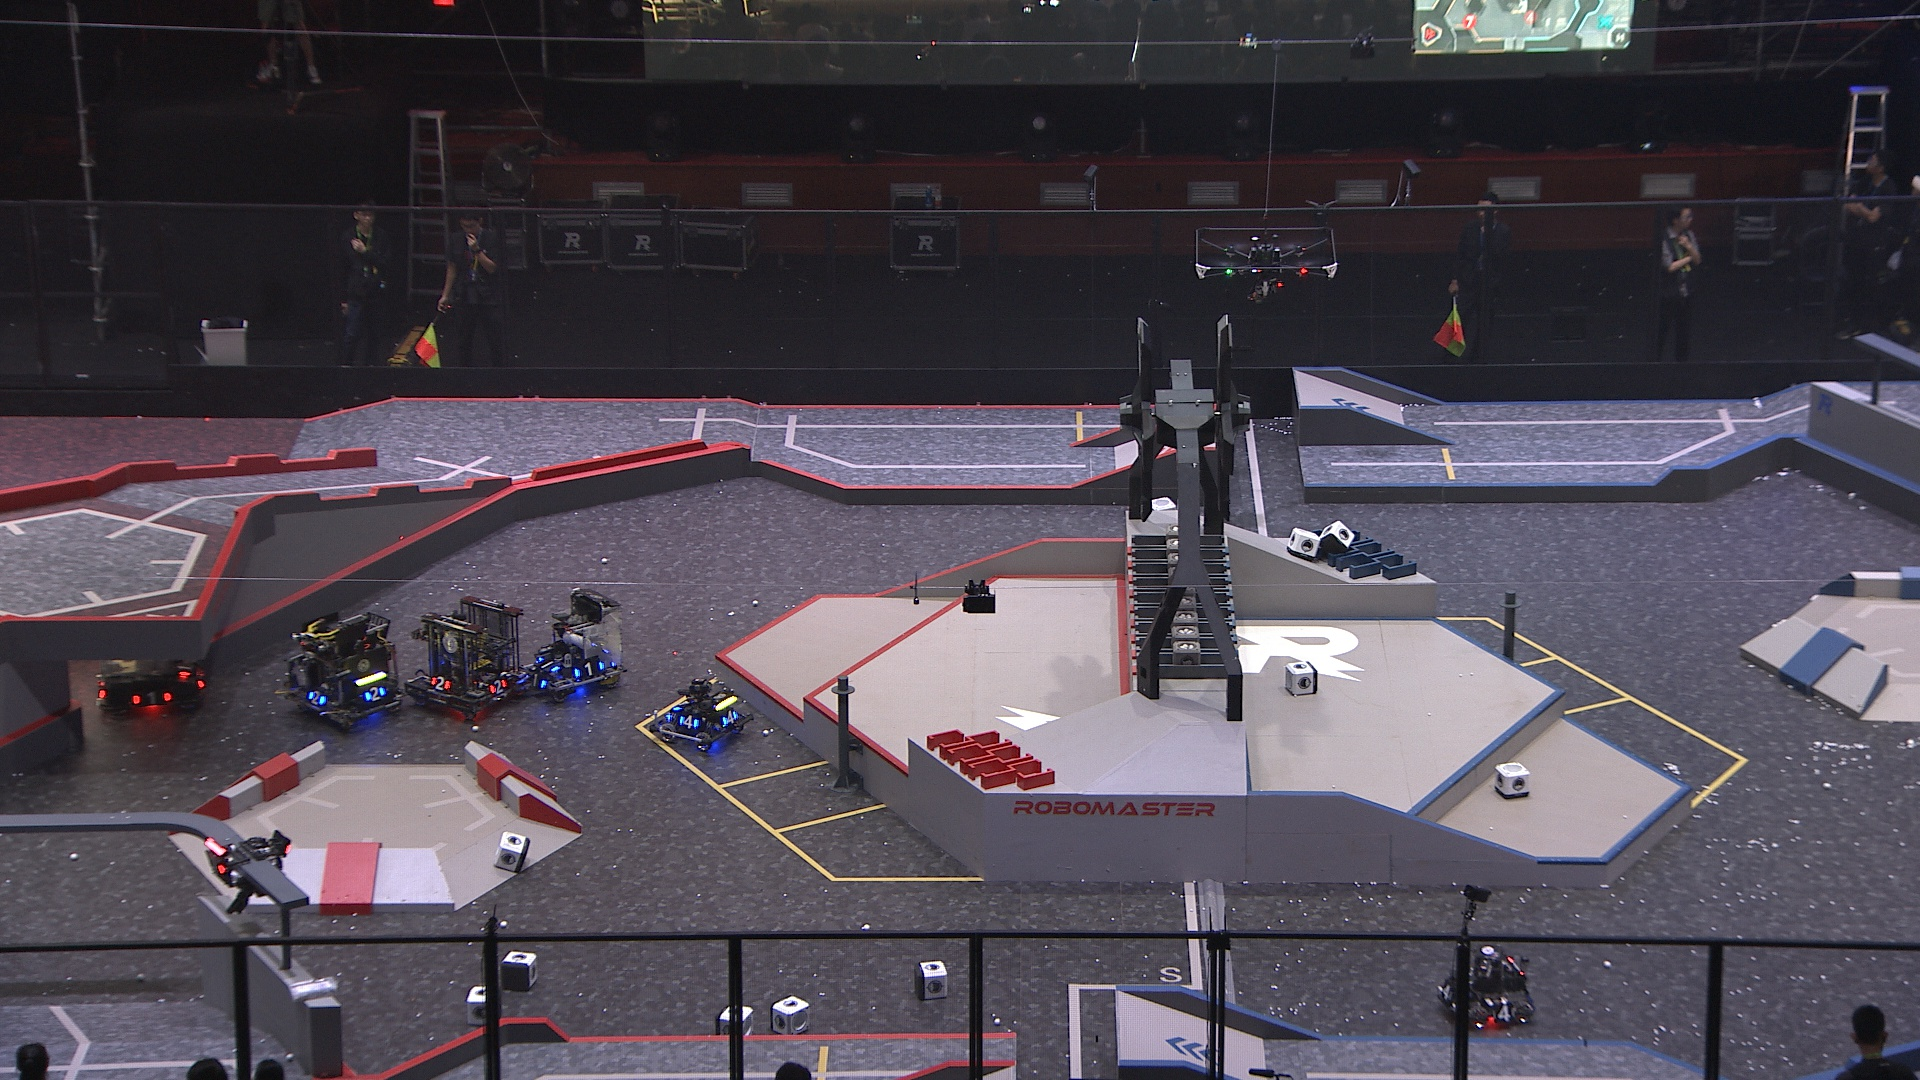armor: (131, 684, 173, 708), (568, 657, 605, 680), (204, 849, 225, 878), (524, 665, 549, 688), (1490, 1002, 1516, 1025), (487, 674, 509, 698), (363, 684, 386, 704), (429, 675, 454, 694), (306, 688, 327, 709), (719, 707, 740, 727), (175, 657, 193, 680), (537, 651, 560, 669), (676, 713, 700, 731), (670, 694, 690, 712), (1437, 981, 1453, 1002)
car: (404, 589, 526, 723), (281, 609, 404, 733), (92, 599, 216, 716), (517, 585, 632, 702), (1433, 942, 1536, 1034), (651, 673, 757, 754)
watcher: (199, 823, 291, 915)
